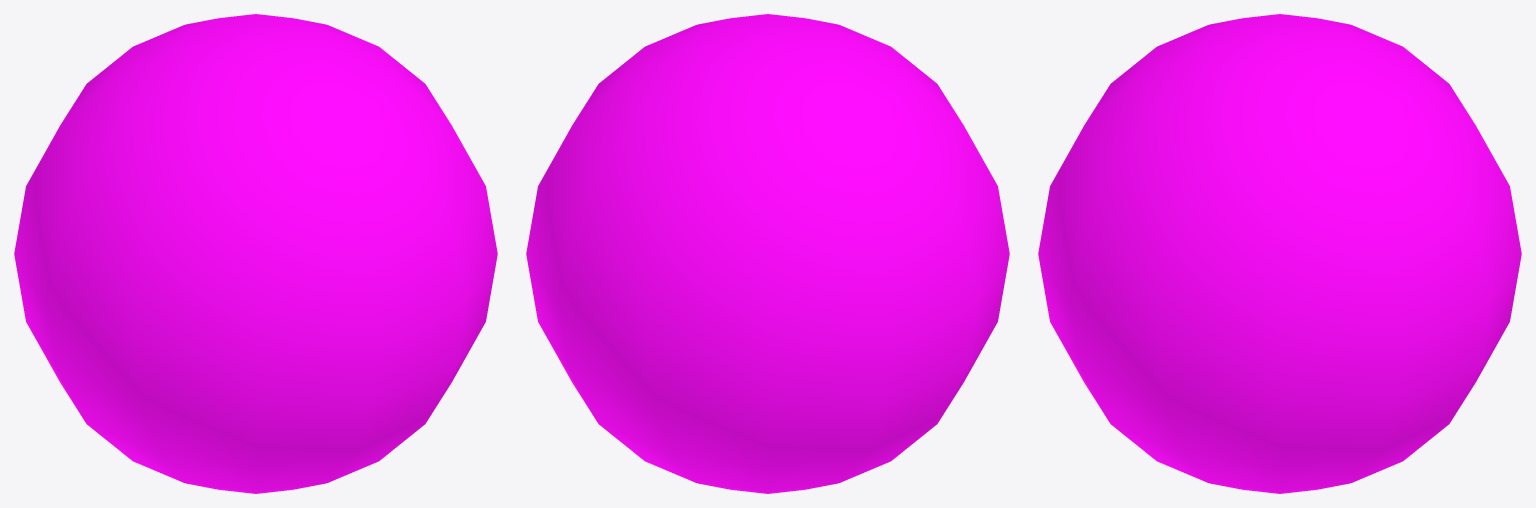
Rendered from stake_orb.glb.
3 views of the same model, side by side, from view 1: azimuth 30°, elevation 25°; view 2: azimuth 150°, elevation 25°; view 3: azimuth 270°, elevation 25° (orthographic).
Parts seen in each view (by area): view 1: stake_orb; view 2: stake_orb; view 3: stake_orb.
Boxes of the visible parts, <box> form: stake_orb: <box>14,14,497,493</box>; stake_orb: <box>526,14,1009,493</box>; stake_orb: <box>1038,14,1521,493</box>.
Size of the model in its own units: 0.18 by 0.18 by 0.18.
